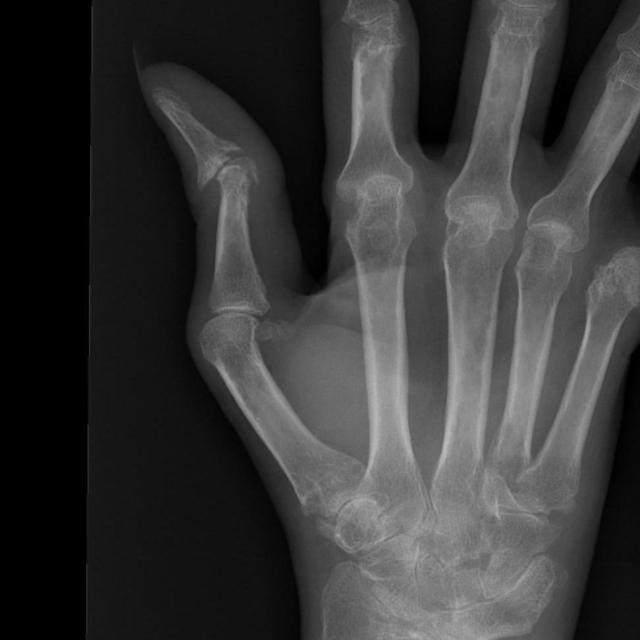fracture: (166, 127, 293, 210)
